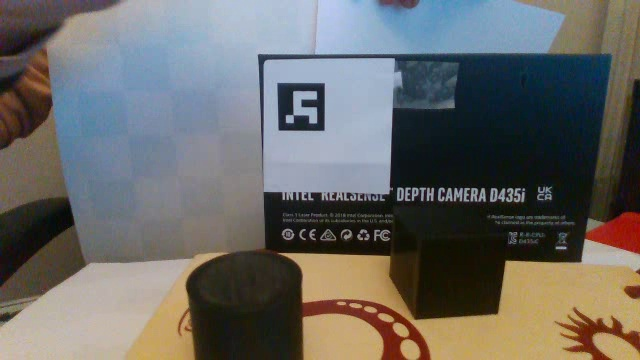cube: (383, 201, 511, 328)
cylindre: (178, 247, 314, 360)
